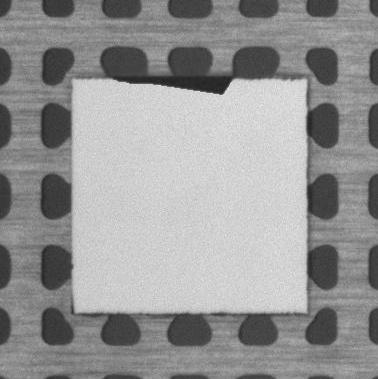DIE_BROKEN: (108, 70, 238, 95)
